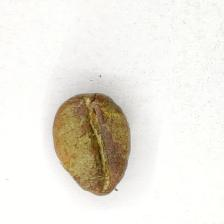NG: (53, 103, 127, 186)
